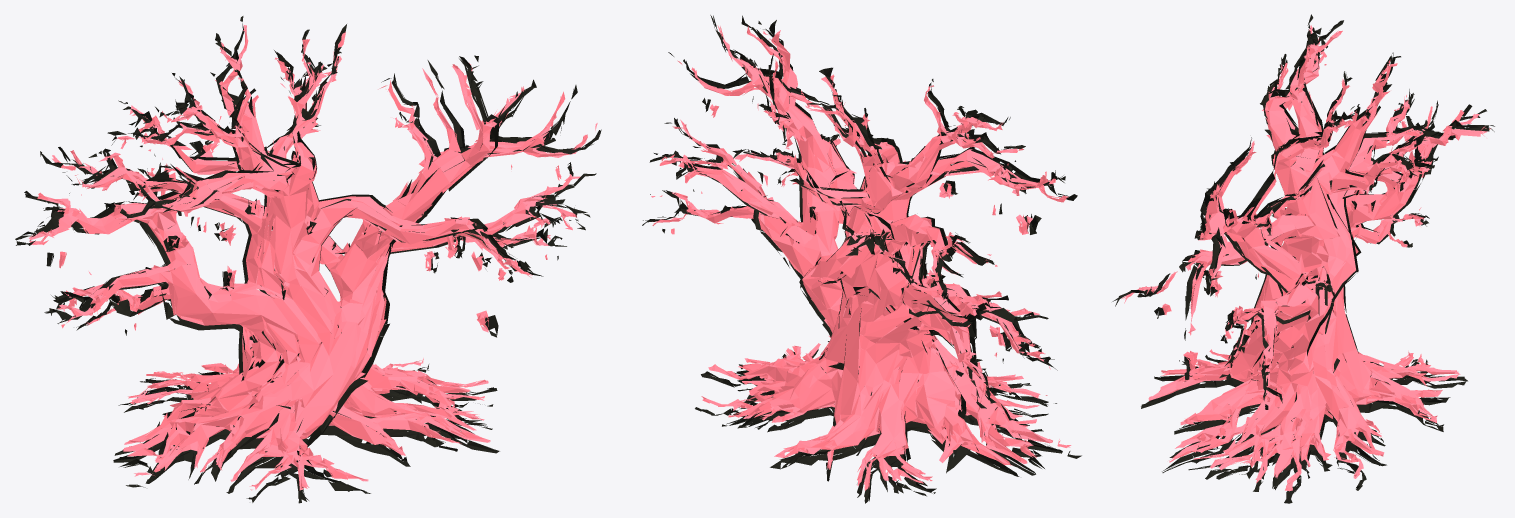
Rendered from df_v2_lantern_tree_hero_f_a.glb.
The picture shows the model from 3 angles, left to right: view 1: azimuth 30°, elevation 25°; view 2: azimuth 150°, elevation 25°; view 3: azimuth 270°, elevation 25°; orthographic projection. The views are drawn at different scales.
Parts seen in each view (by area): view 1: lantern_tree_hero_f_mesh_01, lantern_tree_hero_f_mesh_01_ink_outline; view 2: lantern_tree_hero_f_mesh_01, lantern_tree_hero_f_mesh_01_ink_outline; view 3: lantern_tree_hero_f_mesh_01, lantern_tree_hero_f_mesh_01_ink_outline.
Boxes of the visible parts, x1,y1,x2,y2 form: lantern_tree_hero_f_mesh_01: (29,25,597,490); lantern_tree_hero_f_mesh_01_ink_outline: (15,16,601,503); lantern_tree_hero_f_mesh_01: (651,25,1071,490); lantern_tree_hero_f_mesh_01_ink_outline: (642,15,1081,503); lantern_tree_hero_f_mesh_01: (1122,25,1490,491); lantern_tree_hero_f_mesh_01_ink_outline: (1112,14,1494,503).
Size of the model in its own units: 3.54 by 2.61 by 2.55.
